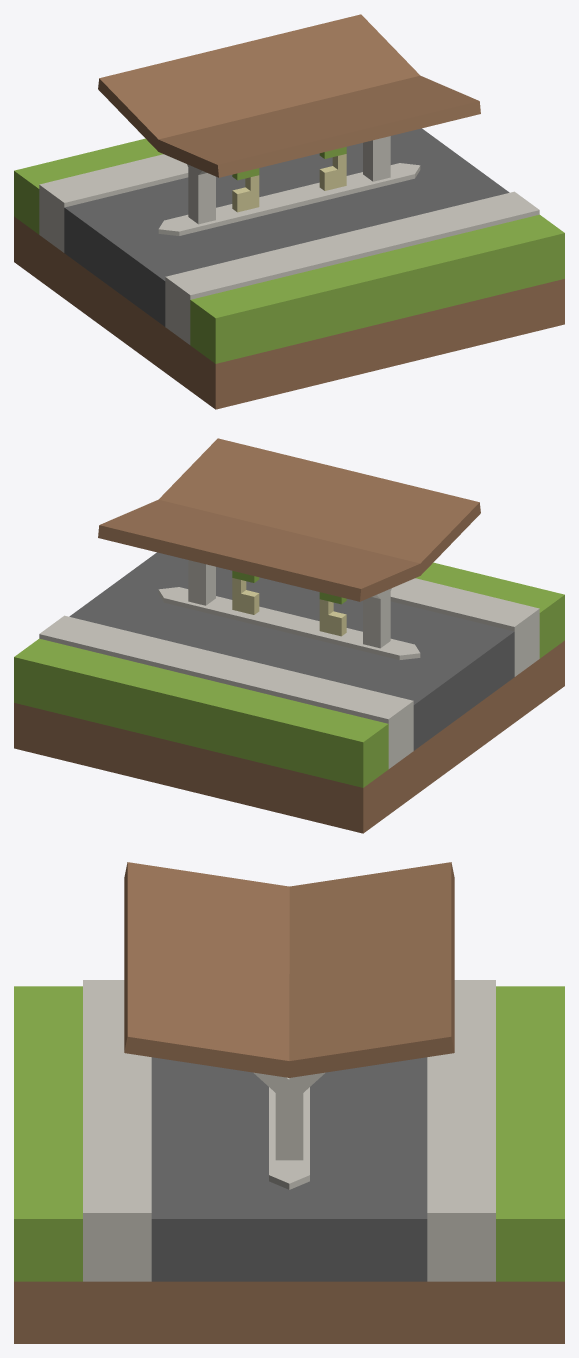
File: gas-station.obj
3 renders of one model, top to bottom at view 1: azimuth 30°, elevation 25°; view 2: azimuth 150°, elevation 25°; view 3: azimuth 270°, elevation 25°, orthographic. The views are drawn at different scales.
Parts seen in each view (by area): view 1: gas-station_Cube.047_basecolors; view 2: gas-station_Cube.047_basecolors; view 3: gas-station_Cube.047_basecolors.
Part boxes in pixels (<box>): gas-station_Cube.047_basecolors: <box>14,14,564,409</box>; gas-station_Cube.047_basecolors: <box>14,438,564,833</box>; gas-station_Cube.047_basecolors: <box>14,862,564,1343</box>.
Size of the model in its own units: 8 by 4.46 by 8.
2 materials, 2 textured.
